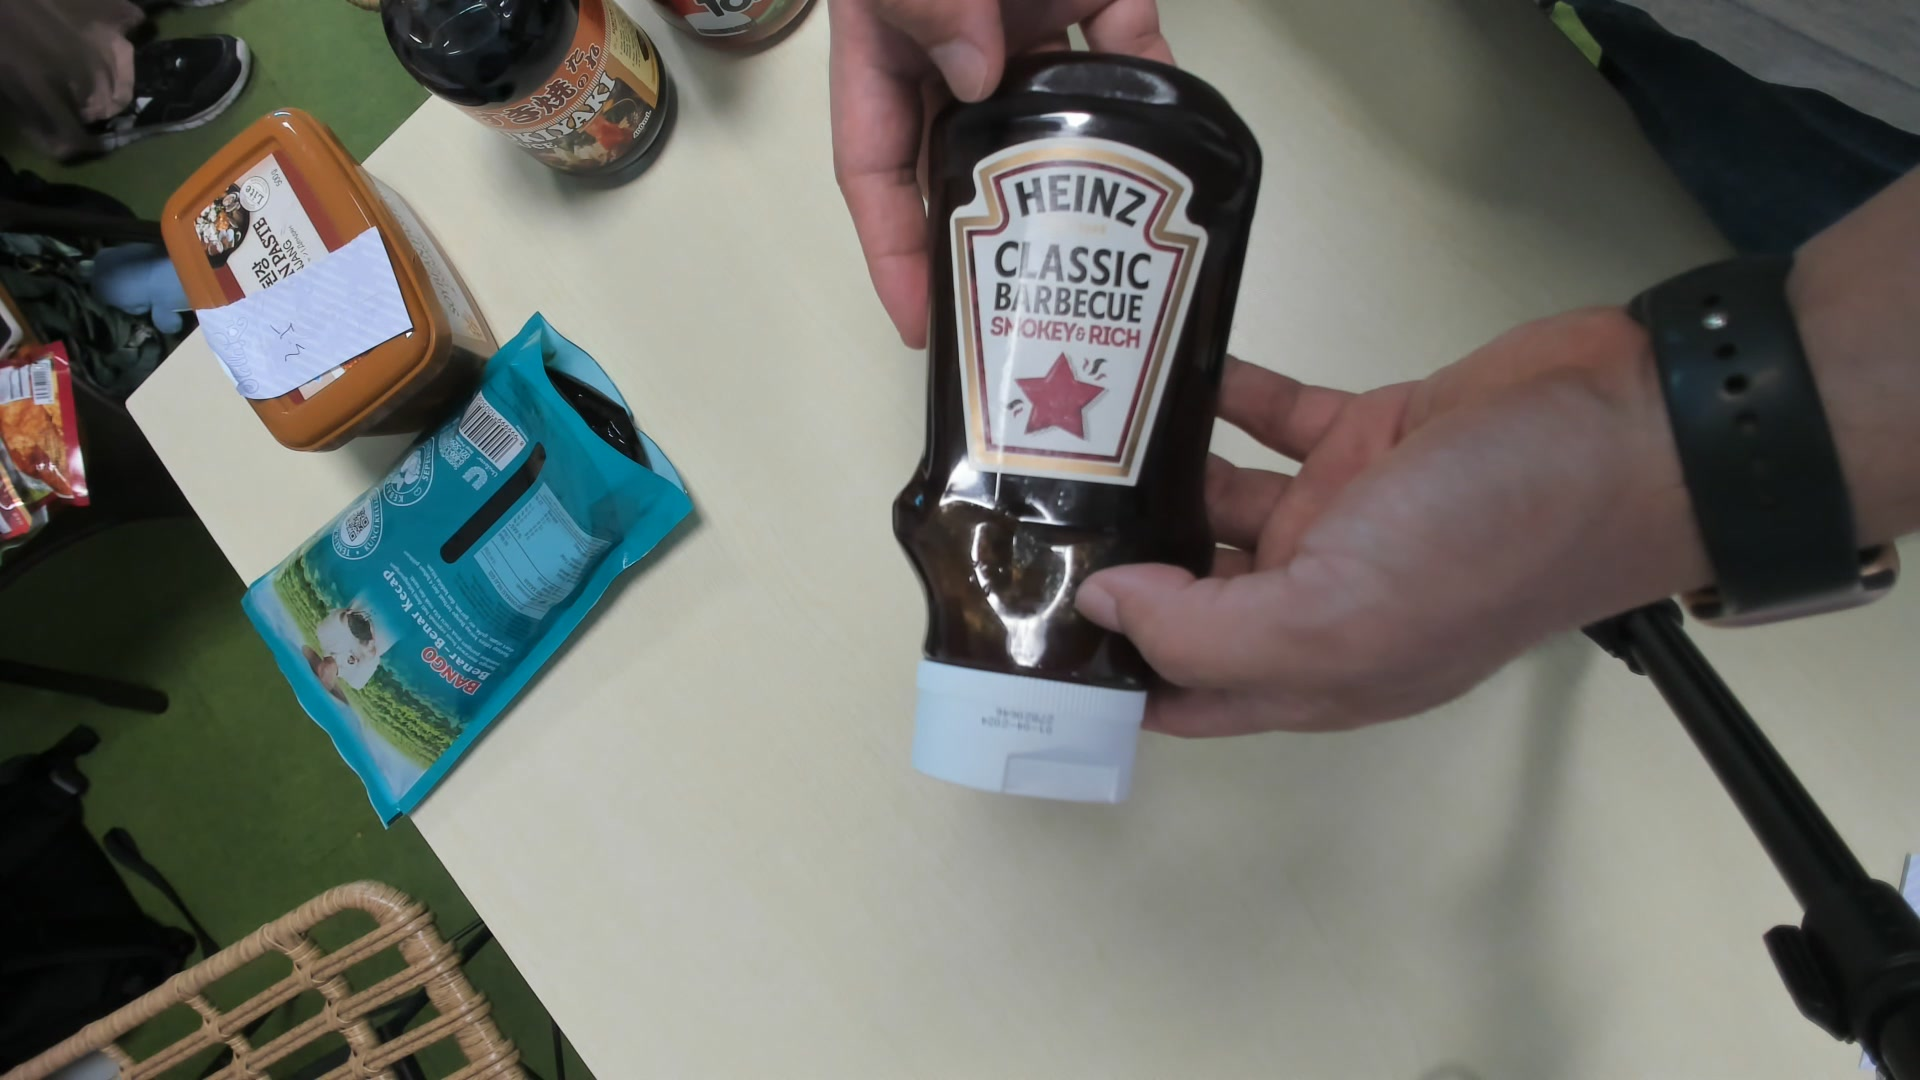OtherSauceDressing_400-499g_NonHalal_NonHealthy: (890, 47, 1273, 814)
